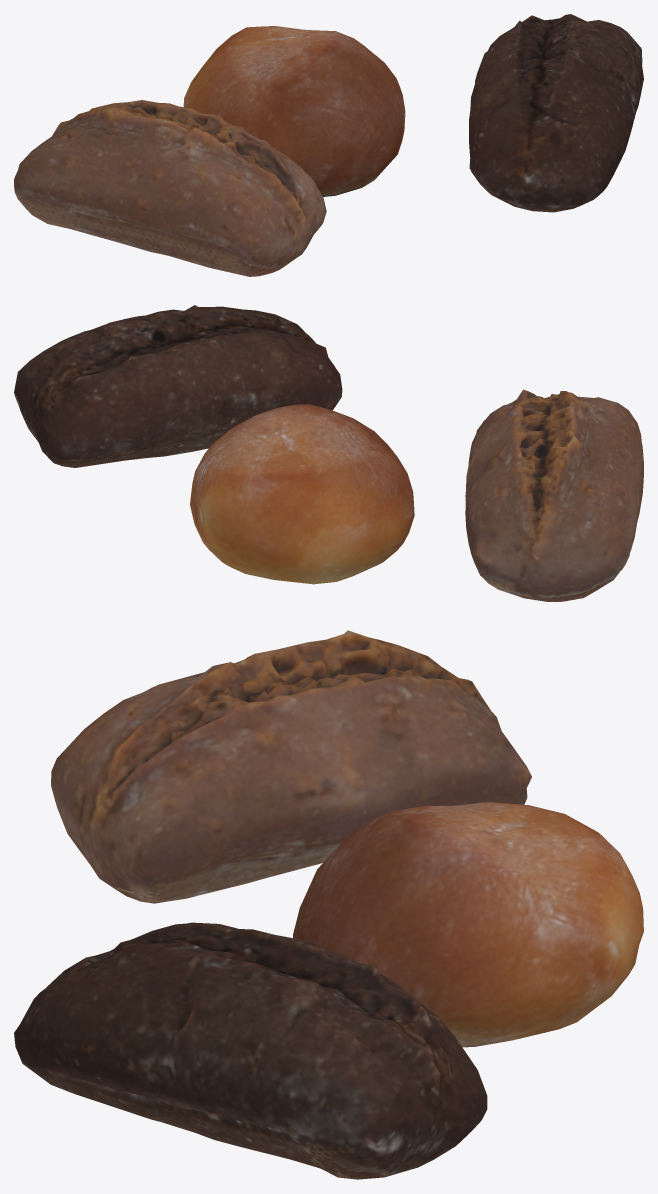
The model's file is bread-group---3-photoscaned-breads-1b4d05.glb.
3 renders of one model, top to bottom at view 1: azimuth 30°, elevation 25°; view 2: azimuth 150°, elevation 25°; view 3: azimuth 270°, elevation 25°, orthographic. The views are drawn at different scales.
Visible parts, largest first — view 1: PropMesh; view 2: PropMesh; view 3: PropMesh.
Boxes of the visible parts, box(x1,y1,x2,y2) form: PropMesh: box(14, 14, 643, 276); PropMesh: box(14, 305, 643, 601); PropMesh: box(14, 630, 643, 1179).
Bounding box in the file's own units: 0.7143 × 0.1506 × 0.4256.
3 materials, 3 textured.
